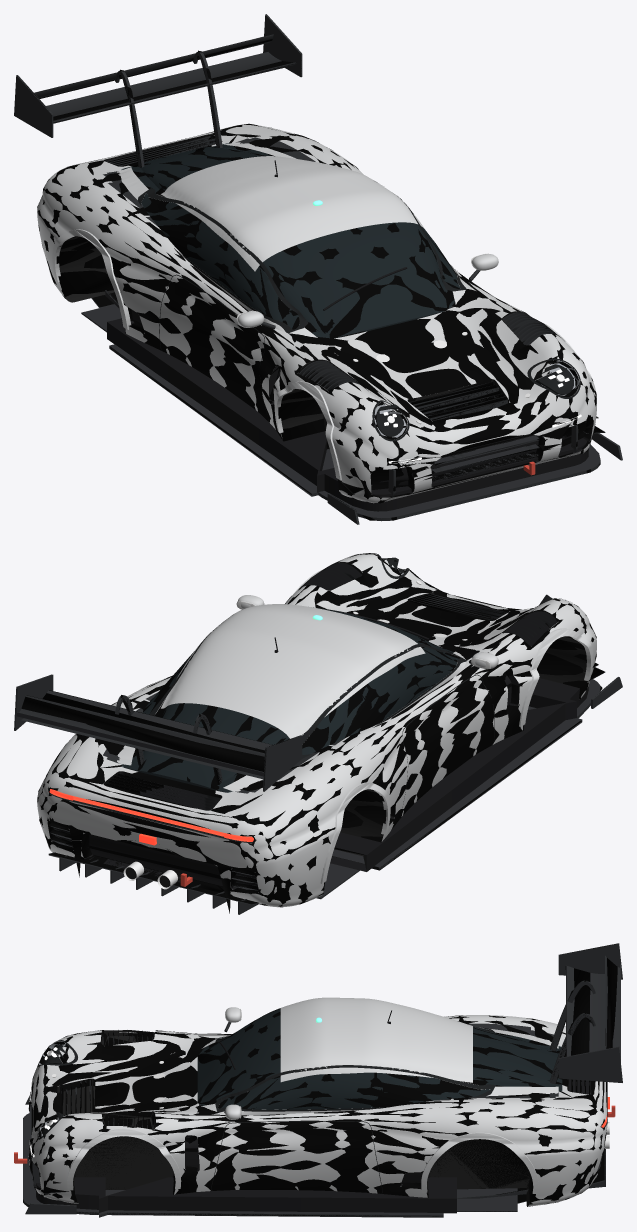
Rendered from porsche.glb.
The picture shows the model from 3 angles, top to bottom: view 1: azimuth 30°, elevation 25°; view 2: azimuth 150°, elevation 25°; view 3: azimuth 270°, elevation 25°; orthographic projection. The views are drawn at different scales.
Parts seen in each view (by area): view 1: Shadow, Body, Carbon, Paint, Cabin, Grille, Trim; view 2: Shadow, Body, Paint, Carbon, Grille, Cabin, Trim, LightR, Chrome; view 3: Shadow, Body, Paint, Carbon, Cabin, Grille, Trim.
Part boxes in pixels (<box>): Shadow: <box>17,35,604,520</box>; Body: <box>37,124,596,503</box>; Carbon: <box>14,14,622,524</box>; Paint: <box>52,142,591,480</box>; Cabin: <box>121,143,460,338</box>; Grille: <box>107,160,588,511</box>; Trim: <box>137,181,580,441</box>; Shadow: <box>21,553,617,913</box>; Body: <box>37,553,596,907</box>; Paint: <box>117,570,593,883</box>; Carbon: <box>14,563,622,914</box>; Grille: <box>274,609,588,871</box>; Cabin: <box>121,607,458,792</box>; Trim: <box>141,553,568,819</box>; LightR: <box>49,789,253,845</box>; Chrome: <box>123,580,530,889</box>; Shadow: <box>23,943,617,1216</box>; Body: <box>28,1015,607,1206</box>; Paint: <box>67,997,558,1193</box>; Carbon: <box>23,943,622,1217</box>; Cabin: <box>197,1009,562,1109</box>; Grille: <box>36,1010,456,1213</box>; Trim: <box>37,1008,495,1193</box>.
Size of the model in its own units: 2.16 by 1.44 by 4.76.
